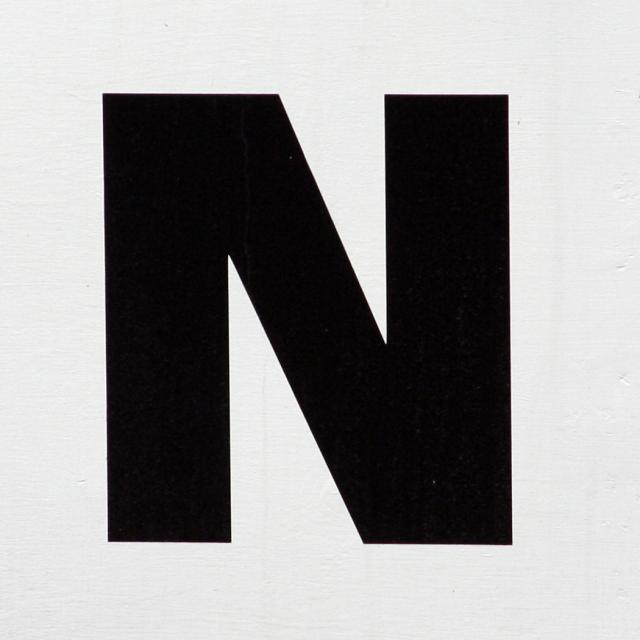N: (38, 64, 566, 591)
